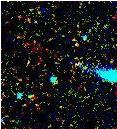star: (60, 29, 90, 59)
